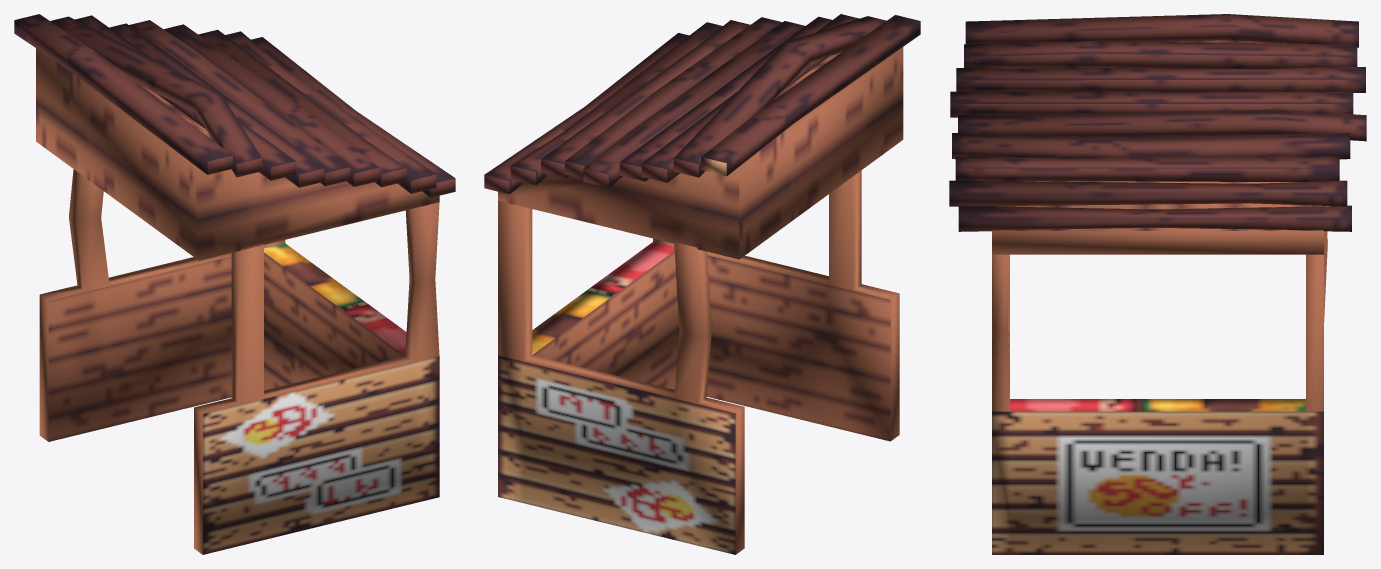
File: Vendinha.fbx
3 renders of one model, left to right at view 1: azimuth 30°, elevation 25°; view 2: azimuth 150°, elevation 25°; view 3: azimuth 270°, elevation 25°, orthographic.
Parts seen in each view (by area): view 1: Vendinha; view 2: Vendinha; view 3: Vendinha.
Part boxes in pixels (bbox=[...]): Vendinha: bbox=[14, 14, 455, 554]; Vendinha: bbox=[484, 14, 920, 554]; Vendinha: bbox=[949, 14, 1366, 554].
Bounding box in the file's own units: 186 × 267 × 295.
